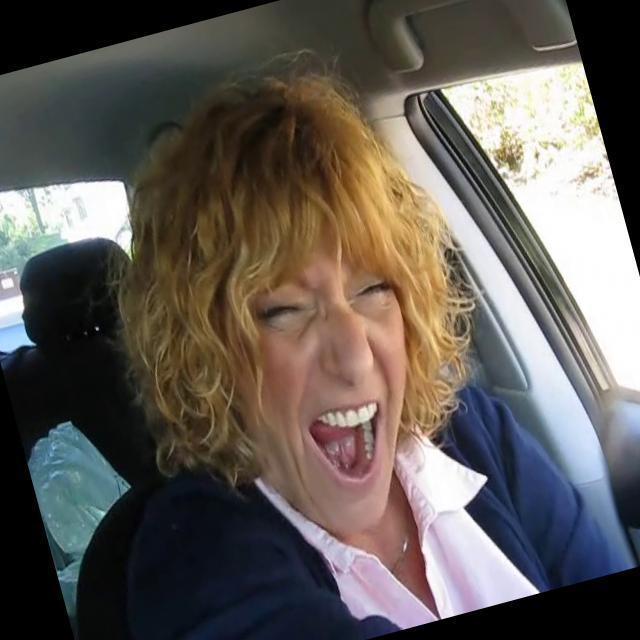open-mouth: (307, 400, 383, 484)
